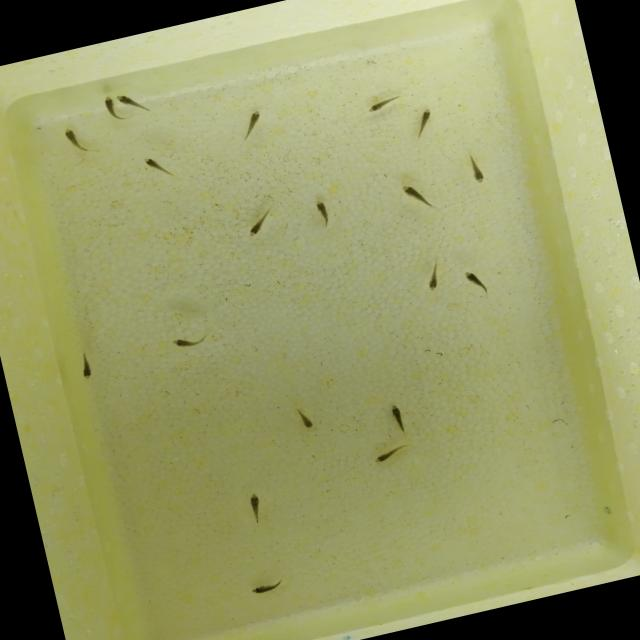fingerling: (394, 177, 439, 214), (241, 205, 280, 240), (405, 104, 442, 140), (164, 328, 218, 352), (460, 263, 492, 303), (365, 442, 414, 468), (292, 400, 322, 438), (386, 401, 416, 438), (236, 107, 268, 141), (142, 151, 176, 182), (242, 489, 270, 526), (362, 92, 407, 115), (418, 258, 446, 294), (308, 197, 339, 229), (62, 124, 90, 158), (117, 89, 151, 116), (248, 576, 287, 598), (464, 152, 489, 184), (75, 350, 97, 383), (97, 94, 120, 123)
